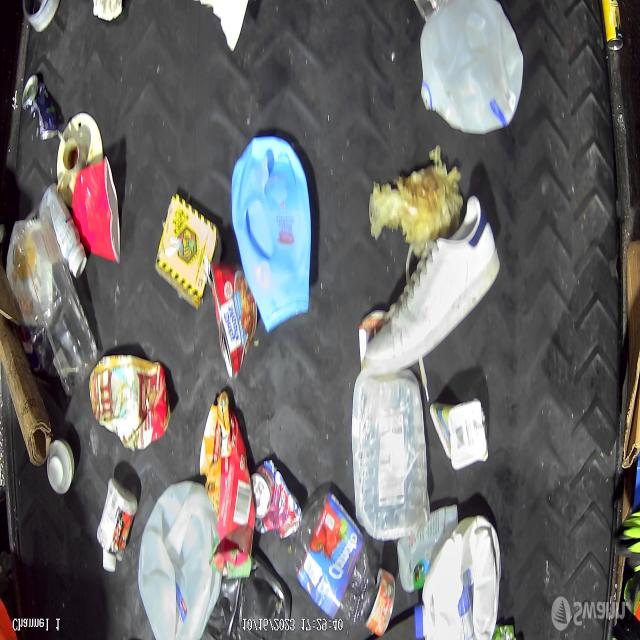can: (22, 59, 66, 152)
milk_jug: (414, 0, 522, 138), (138, 476, 224, 640), (412, 510, 502, 640)
non_white_jug: (233, 122, 309, 332)
